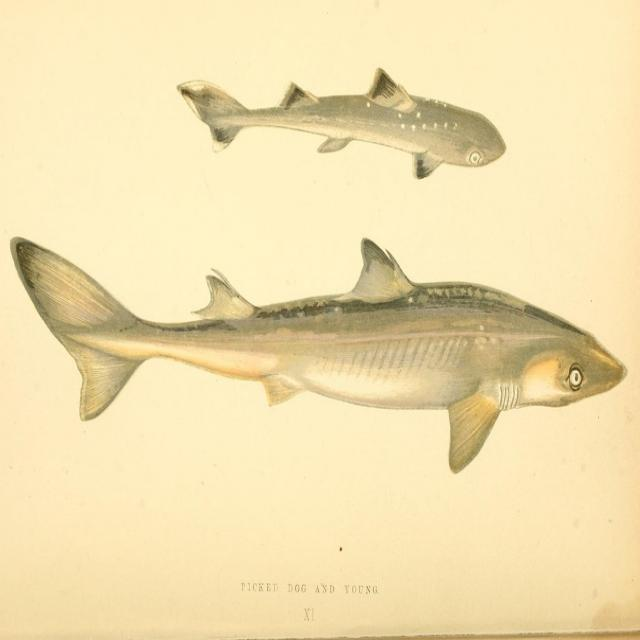Shark: (12, 238, 626, 472)
